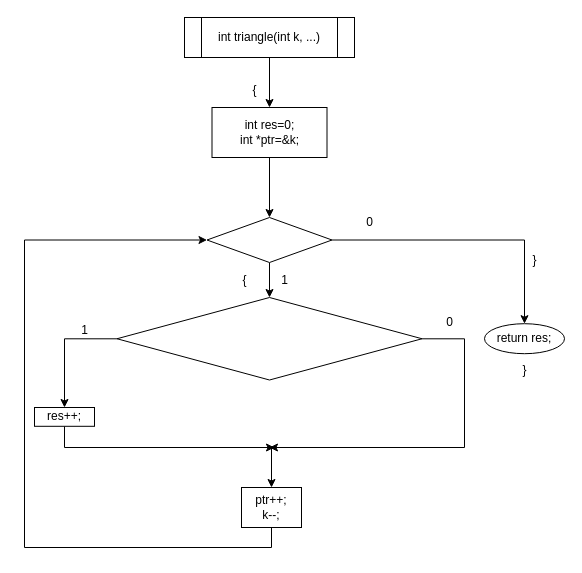
The diagram is 582 pixels wide and 573 high, and some of its shapes have lost their labels. The shapes that lost their labels are listed below. From the top down, each one's centre as x and y in pixels, then its label:
the point at 269,239: while (k!=2)
the point at 269,338: if (CheckTriangle(*(ptr+1), *(ptr+2), *(ptr+3)))
